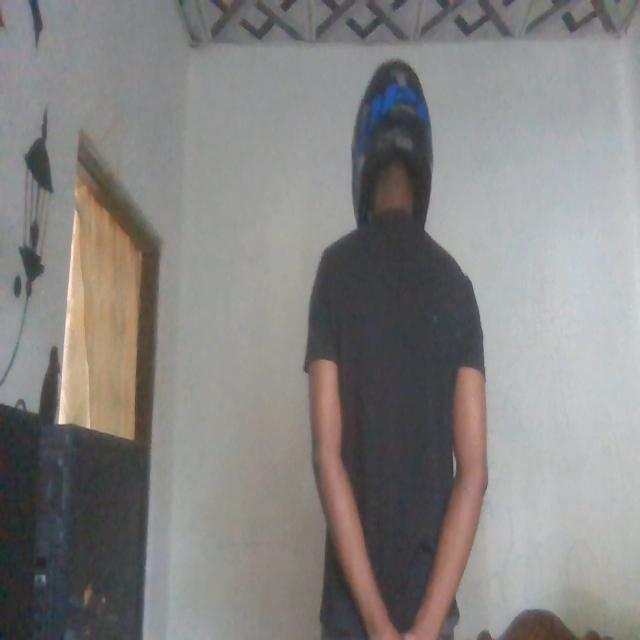Helmet_Wearer: (342, 46, 436, 241)
Person: (296, 50, 491, 640)
